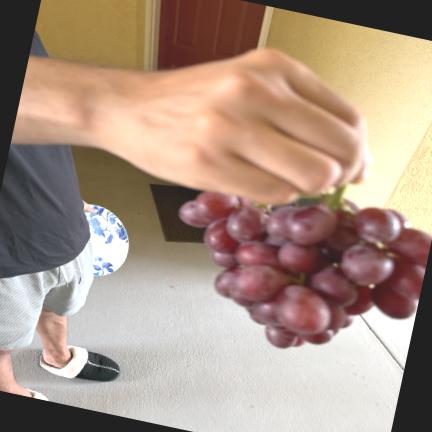grape_cluster: (179, 186, 432, 348)
